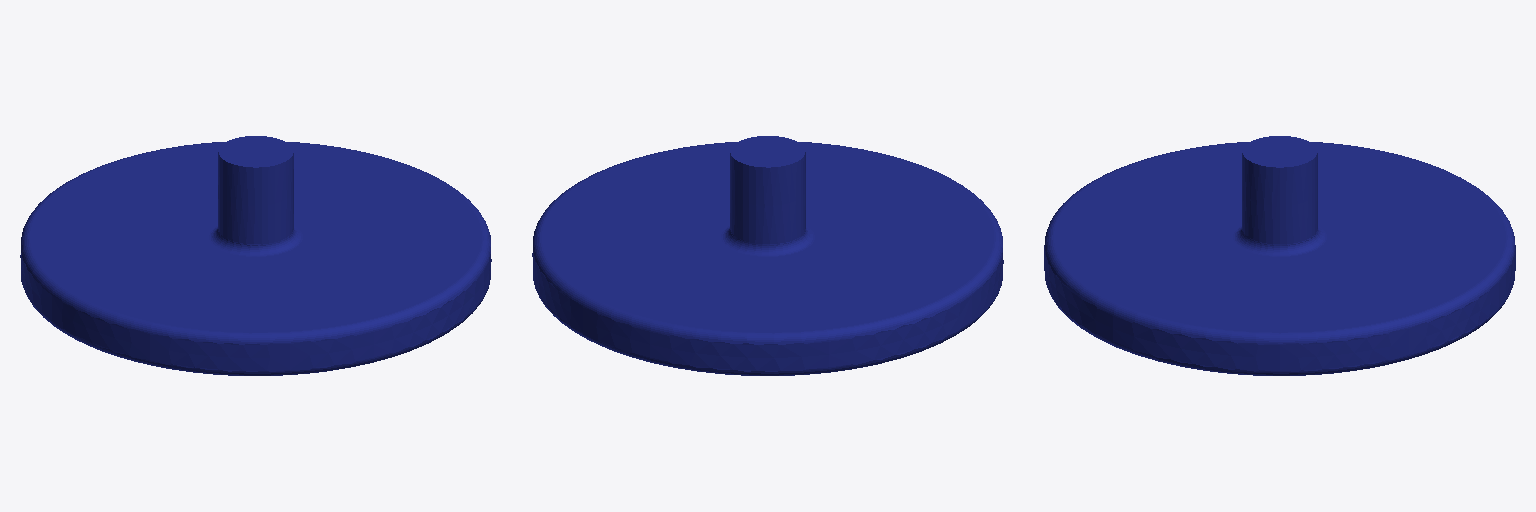
The robot description file, URDF, robot "RobotArm":
<?xml version="1.0" ?>
<robot name="RobotArm" xmlns:xacro="http://www.ros.org/wiki/xacro">

    <link name="base_link">
      <inertial>
        <origin xyz="0.0 3.0473805790115944e-17 0.06710526315789474" rpy="0 0 0"/>
        <mass value="7.028528164243764"/>
        <inertia ixx="0.01717" iyy="0.01717" izz="0.00701" ixy="0.0" iyz="0.0" ixz="0.0"/>
      </inertial>
      <visual>
        <origin xyz="0 0 0" rpy="0 0 0"/>
        <geometry>
          <mesh filename="package://moveit_resources_panda_description/meshes/visual/base_link.dae" scale="1.0 1.0 1.0"/>
        </geometry>
        </visual>
      <collision>
        <origin xyz="0 0 0" rpy="0 0 0"/>
        <geometry>
          <mesh filename="package://moveit_resources_panda_description/meshes/collision/base_link.stl" scale="0.001 0.001 0.001"/>
        </geometry>
      </collision>
    </link>

    <link name="Componente4_1">
      <inertial>
        <origin xyz="1.0134334491220965e-17 -0.026755885129270393 0.07324411487072963" rpy="0 0 0"/>
        <mass value="7.044896154850844"/>
        <inertia ixx="0.018585" iyy="0.012111" izz="0.012111" ixy="0.0" iyz="0.005089" ixz="0.0"/>
      </inertial>
      <visual>
        <origin xyz="0.0 -0.0 -0.15" rpy="0 0 0"/>
        <geometry>
          <mesh filename="package://moveit_resources_panda_description/meshes/visual/Componente4_1.dae" scale="1.0 1.0 1.0"/>
        </geometry>
        </visual>
      <collision>
        <origin xyz="0.0 -0.0 -0.15" rpy="0 0 0"/>
        <geometry>
          <mesh filename="package://moveit_resources_panda_description/meshes/collision/Componente4_1.stl" scale="0.001 0.001 0.001"/>
        </geometry>
      </collision>
    </link>

    <link name="Componente5_1">
      <inertial>
        <origin xyz="0.0 -0.08738047991046766 0.11828872124986534" rpy="0 0 0"/>
        <mass value="14.93657690066839"/>
        <inertia ixx="0.162427" iyy="0.153287" izz="0.021088" ixy="0.0" iyz="0.022342" ixz="0.0"/>
      </inertial>
      <visual>
        <origin xyz="0.0 0.1 -0.25" rpy="0 0 0"/>
        <geometry>
          <mesh filename="package://moveit_resources_panda_description/meshes/visual/Componente5_1.dae" scale="1.0 1.0 1.0"/>
        </geometry>
        </visual>
      <collision>
        <origin xyz="0.0 0.1 -0.25" rpy="0 0 0"/>
        <geometry>
          <mesh filename="package://moveit_resources_panda_description/meshes/collision/Componente5_1.stl" scale="0.001 0.001 0.001"/>
        </geometry>
      </collision>
    </link>

    <link name="Componente6_1">
      <inertial>
        <origin xyz="0.0 0.026755885129270546 0.07324411487072946" rpy="0 0 0"/>
        <mass value="7.044896154850833"/>
        <inertia ixx="0.018585" iyy="0.012111" izz="0.012111" ixy="0.0" iyz="-0.005089" ixz="0.0"/>
      </inertial>
      <visual>
        <origin xyz="0.0 0.2 -0.55" rpy="0 0 0"/>
        <geometry>
          <mesh filename="package://moveit_resources_panda_description/meshes/visual/Componente6_1.dae" scale="1.0 1.0 1.0"/>
        </geometry>
        </visual>
      <collision>
        <origin xyz="0.0 0.2 -0.55" rpy="0 0 0"/>
        <geometry>
          <mesh filename="package://moveit_resources_panda_description/meshes/collision/Componente6_1.stl" scale="0.001 0.001 0.001"/>
        </geometry>
      </collision>
    </link>

    <link name="Componente7_1">
      <inertial>
        <origin xyz="2.673220995321651e-07 0.08918779058748391 0.1494478643113606" rpy="0 0 0"/>
        <mass value="17.433294627889037"/>
        <inertia ixx="0.266514" iyy="0.257034" izz="0.023108" ixy="0.0" iyz="-0.028215" ixz="-1e-06"/>
      </inertial>
      <visual>
        <origin xyz="0.0 0.1 -0.65" rpy="0 0 0"/>
        <geometry>
          <mesh filename="package://moveit_resources_panda_description/meshes/visual/Componente7_1.dae" scale="1.0 1.0 1.0"/>
        </geometry>
        </visual>
      <collision>
        <origin xyz="0.0 0.1 -0.65" rpy="0 0 0"/>
        <geometry>
          <mesh filename="package://moveit_resources_panda_description/meshes/collision/Componente7_1.stl" scale="0.001 0.001 0.001"/>
        </geometry>
      </collision>
    </link>

    <link name="Componente8_1">
      <inertial>
        <origin xyz="-3.0163950392876806e-05 -1.1628250065204183e-15 0.026412072740170656" rpy="0 0 0"/>
        <mass value="0.03594944014624574"/>
        <inertia ixx="1e-05" iyy="1.7e-05" izz="8e-06" ixy="0.0" iyz="0.0" ixz="0.0"/>
      </inertial>
      <visual>
        <origin xyz="0.0 0.0 -1.05" rpy="0 0 0"/>
        <geometry>
          <mesh filename="package://moveit_resources_panda_description/meshes/visual/Componente8_1.dae" scale="1.0 1.0 1.0"/>
        </geometry>
        </visual>
      <collision>
        <origin xyz="0.0 0.0 -1.05" rpy="0 0 0"/>
        <geometry>
          <mesh filename="package://moveit_resources_panda_description/meshes/collision/Componente8_1.stl" scale="0.001 0.001 0.001"/>
        </geometry>
      </collision>
    </link>

    <joint name="limb1_to_base_link" type="continuous">
      <origin xyz="0.0 0.0 0.15" rpy="0 0 0"/>
      <parent link="base_link"/>
      <child link="Componente4_1"/>
      <axis xyz="0.0 0.0 1.0"/>
    </joint>

    <joint name="limb2_to_limb1" type="revolute">
      <origin xyz="0.0 -0.1 0.1" rpy="0 0 0"/>
      <parent link="Componente4_1"/>
      <child link="Componente5_1"/>
      <axis xyz="0.0 -1.0 0.0"/>
      <limit upper="1.570796" lower="-1.570796" effort="100" velocity="100.0"/>
    </joint>

    <joint name="limb3_to_limb2" type="continuous">
      <origin xyz="0.0 -0.1 0.3" rpy="0 0 0"/>
      <parent link="Componente5_1"/>
      <child link="Componente6_1"/>
      <axis xyz="0.0 0.0 1.0"/>
    </joint>

    <joint name="limb4_to_limb3" type="revolute">
      <origin xyz="0.0 0.1 0.1" rpy="0 0 0"/>
      <parent link="Componente6_1"/>
      <child link="Componente7_1"/>
      <axis xyz="0.0 1.0 0.0"/>
      <limit upper="2.792527" lower="-2.792527" effort="100" velocity="100.0"/>
    </joint>

    <joint name="limb5_to_limb4" type="continuous">
      <origin xyz="0.0 0.1 0.4" rpy="0 0 0"/>
      <parent link="Componente7_1"/>
      <child link="Componente8_1"/>
      <axis xyz="0.0 0.0 1.0"/>
    </joint>
</robot>

--- Facts derived from the render (not from the file) ---
Views: 3 orthographic renders of the robot side by side, from view 1: azimuth 30°, elevation 25°; view 2: azimuth 150°, elevation 25°; view 3: azimuth 270°, elevation 25°.
Model RobotArm with 6 links and 5 joints (2 revolute, 3 continuous), rooted at base_link, posed every joint at zero.
Links seen in each view (by area): view 1: base_link; view 2: base_link; view 3: base_link.
Boxes of the visible links, box(x1,y1,x2,y2) form: base_link: box(20, 136, 491, 375); base_link: box(532, 136, 1003, 375); base_link: box(1044, 136, 1515, 375).
Bounding box of the posed robot: 500 × 500 × 150 m (x, y, z).
1 mesh visuals loaded from 6 distinct referenced files (1 Collada DAE); not drawn: 5 (reference not matched to a file when rendering).